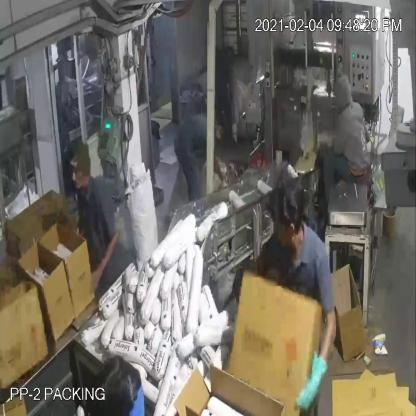glove: (283, 352, 331, 412)
no_glove: (81, 229, 128, 292)
